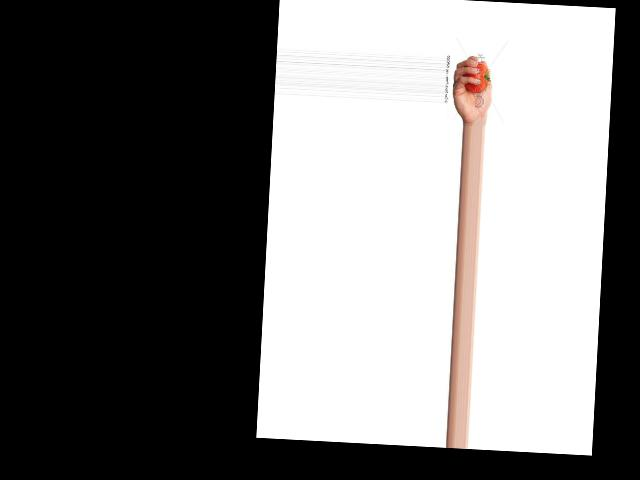tomato: (462, 61, 490, 91)
